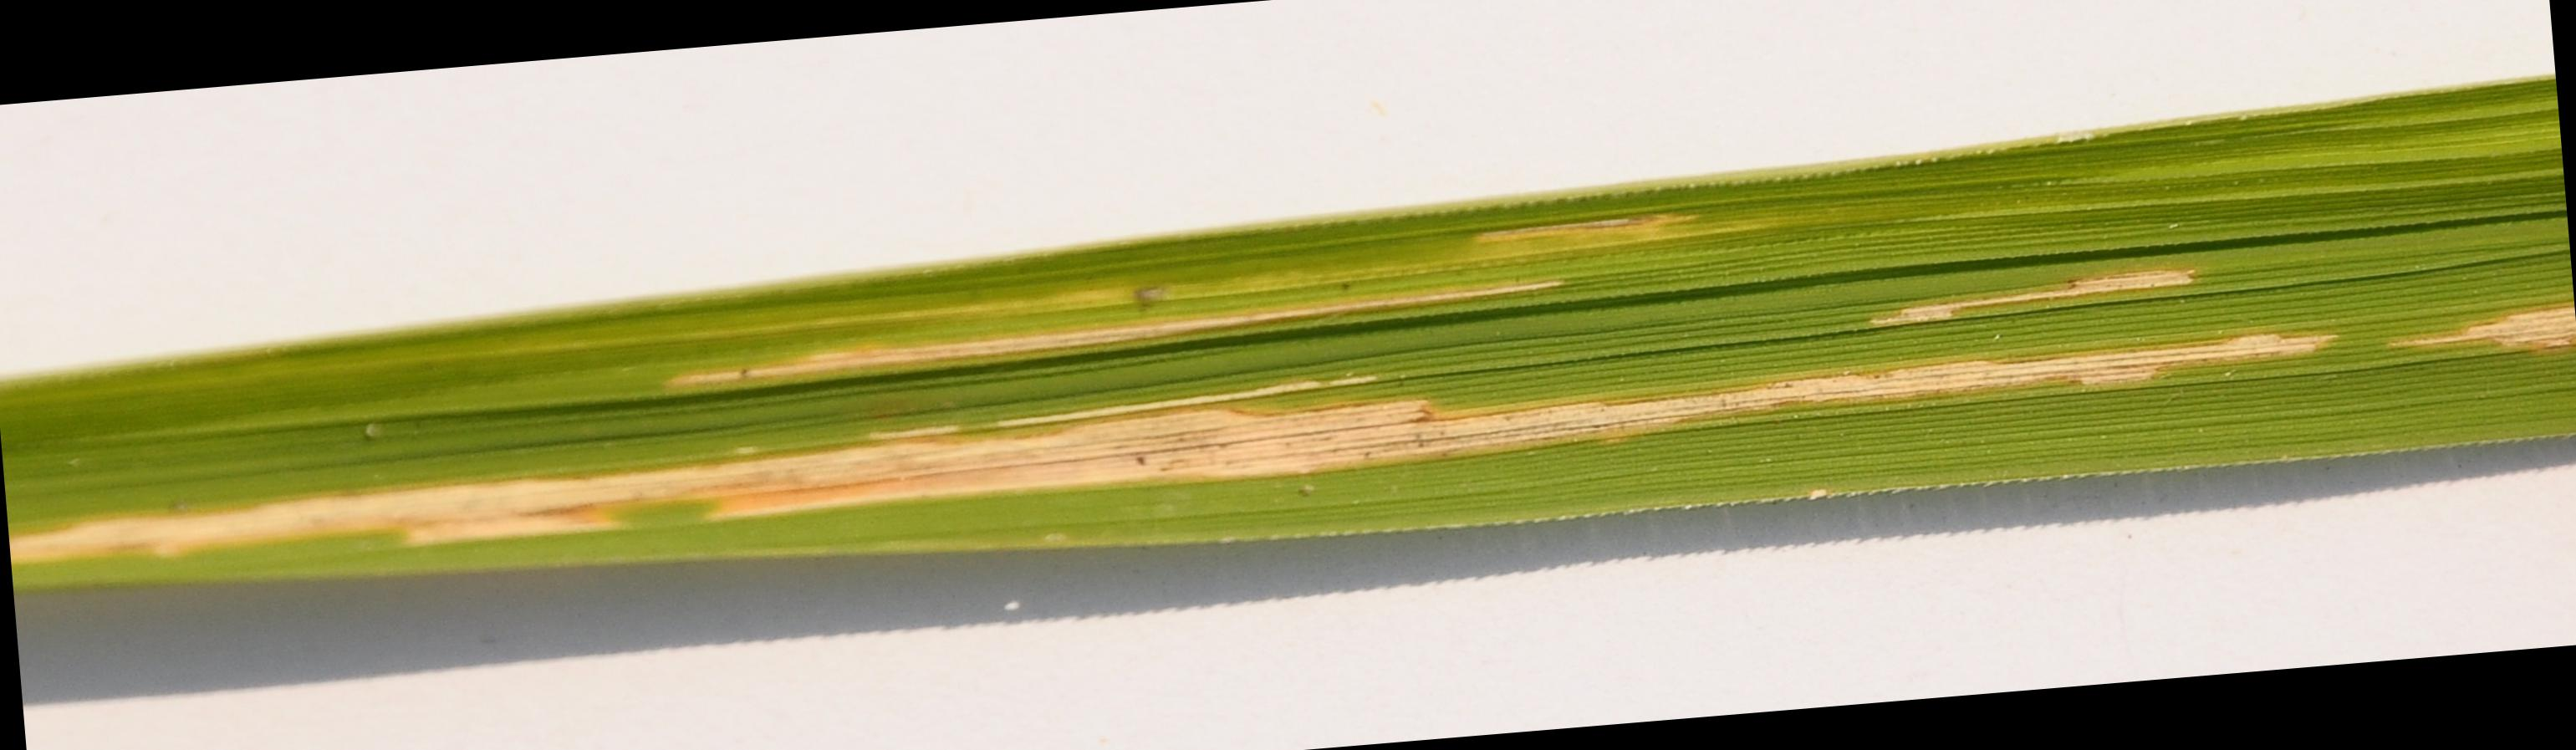bacterial_leaf_blight: (92, 205, 2339, 558)
